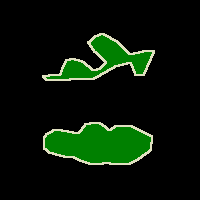shoe: (43, 33, 154, 80), (44, 123, 152, 164)
